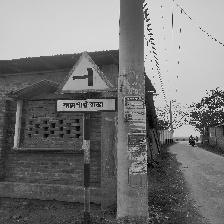Side-road-left: (57, 53, 116, 114)
